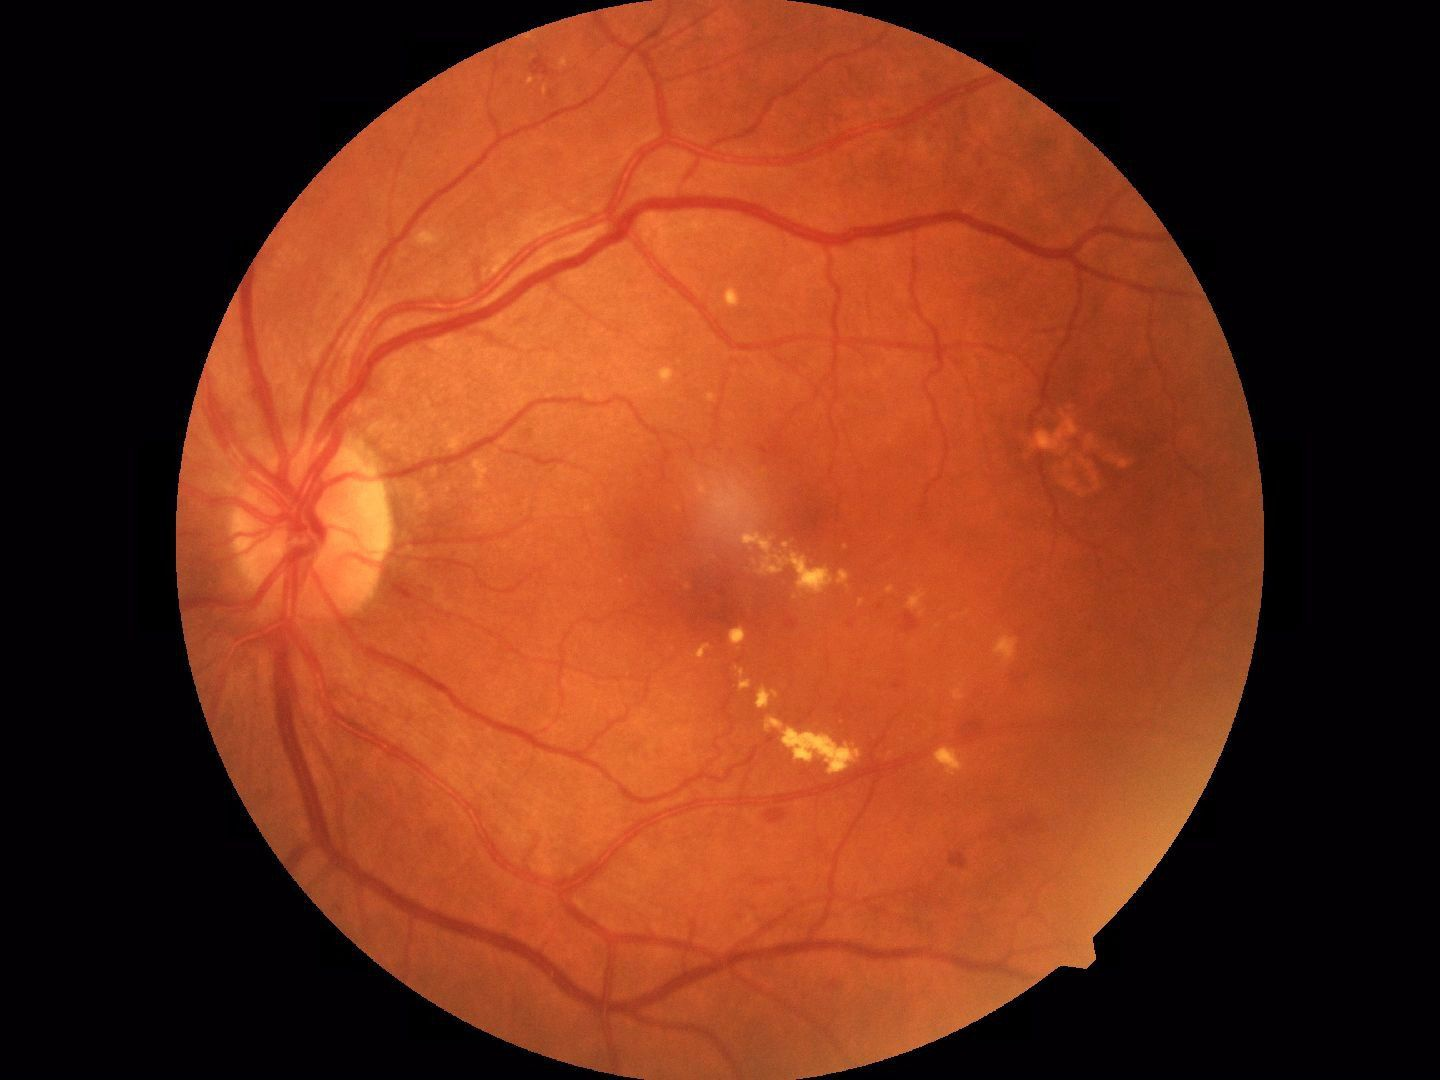Exudates: (736, 670, 862, 770), (1019, 402, 1118, 493), (764, 529, 859, 593)
Hemorrhages: (632, 552, 748, 634)
Microaneurysms: (937, 834, 994, 875)
Optic-Disc: (225, 422, 396, 598)
Venules: (256, 667, 473, 822), (336, 267, 571, 358)
